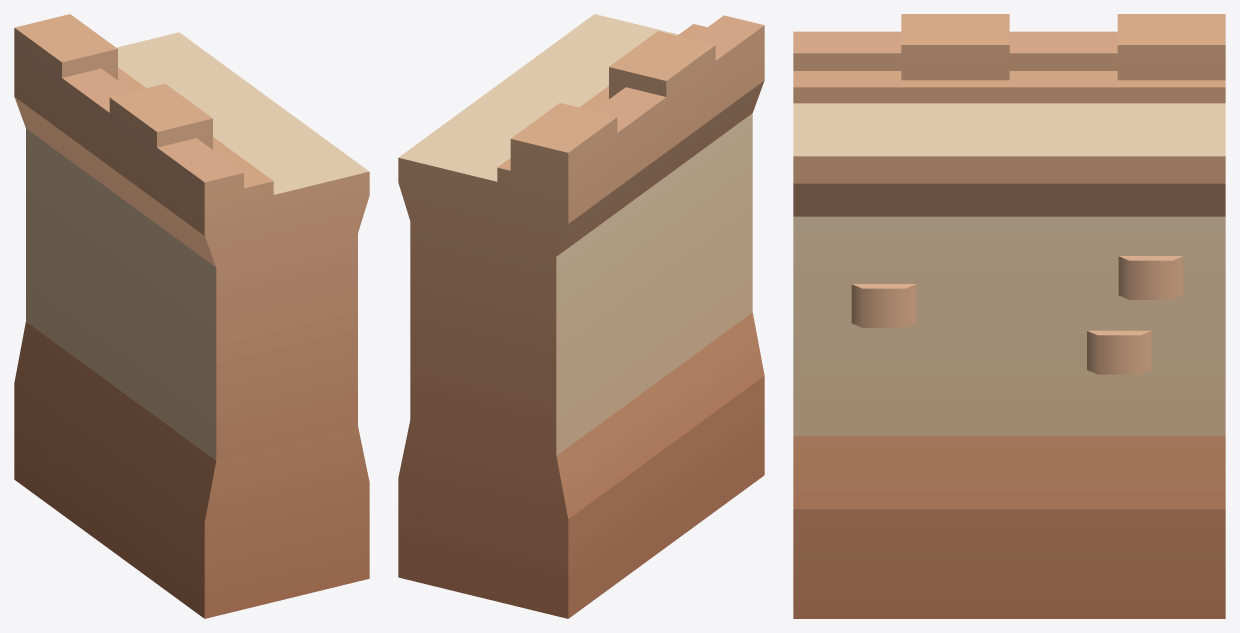
The model's file is k-castle-wall-narrow.glb.
3 views of the same model, side by side, from view 1: azimuth 30°, elevation 25°; view 2: azimuth 150°, elevation 25°; view 3: azimuth 270°, elevation 25° (orthographic). The views are drawn at different scales.
Visible parts, largest first — view 1: wall-narrow; view 2: wall-narrow; view 3: wall-narrow.
Part boxes in pixels (x1=…): wall-narrow: x1=14, y1=14, x2=369, y2=618; wall-narrow: x1=398, y1=14, x2=764, y2=618; wall-narrow: x1=793, y1=14, x2=1225, y2=618.
Bounding box in the file's own units: 0.4999 × 1.31 × 1.
1 material, 1 textured.
